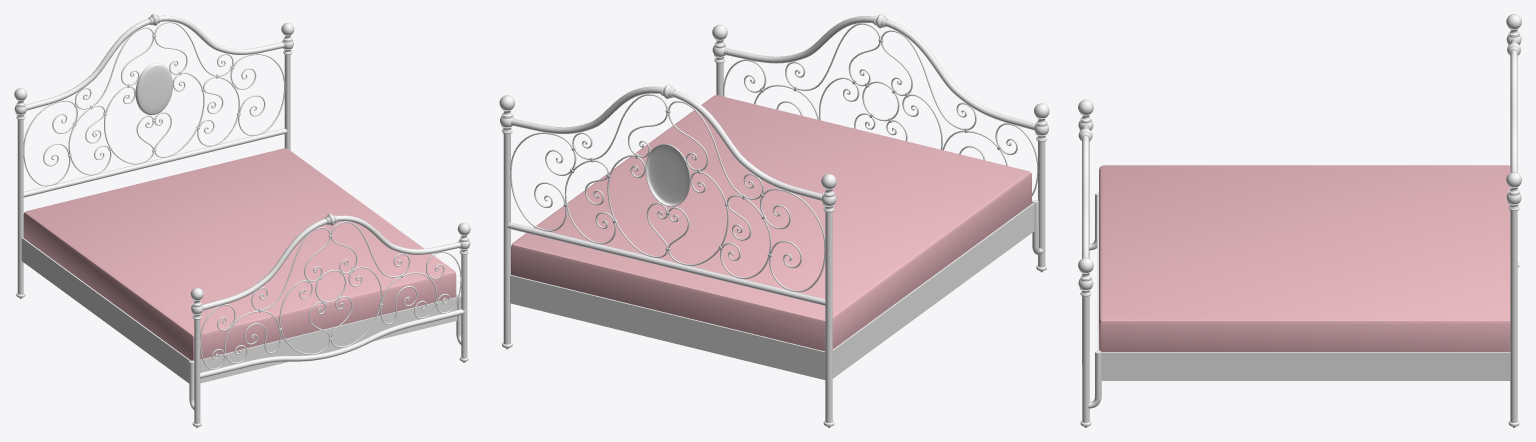
File: 1712384155064princess_bed.glb
3 views of the same model, side by side, from view 1: azimuth 30°, elevation 25°; view 2: azimuth 150°, elevation 25°; view 3: azimuth 270°, elevation 25° (orthographic). The views are drawn at different scales.
Visible parts, largest first — view 1: PrincessBed_001_Matratze_0, PrincessBed_001_MetallWeiss_0; view 2: PrincessBed_001_Matratze_0, PrincessBed_001_MetallWeiss_0; view 3: PrincessBed_001_Matratze_0, PrincessBed_001_MetallWeiss_0.
Boxes of the visible parts, x1,y1,x2,y2 form: PrincessBed_001_Matratze_0: [23, 148, 456, 360]; PrincessBed_001_MetallWeiss_0: [14, 14, 470, 427]; PrincessBed_001_Matratze_0: [511, 95, 1031, 351]; PrincessBed_001_MetallWeiss_0: [499, 14, 1049, 427]; PrincessBed_001_Matratze_0: [1099, 165, 1510, 351]; PrincessBed_001_MetallWeiss_0: [1078, 14, 1521, 427].
Bounding box in the file's own units: 188 × 163 × 214.
